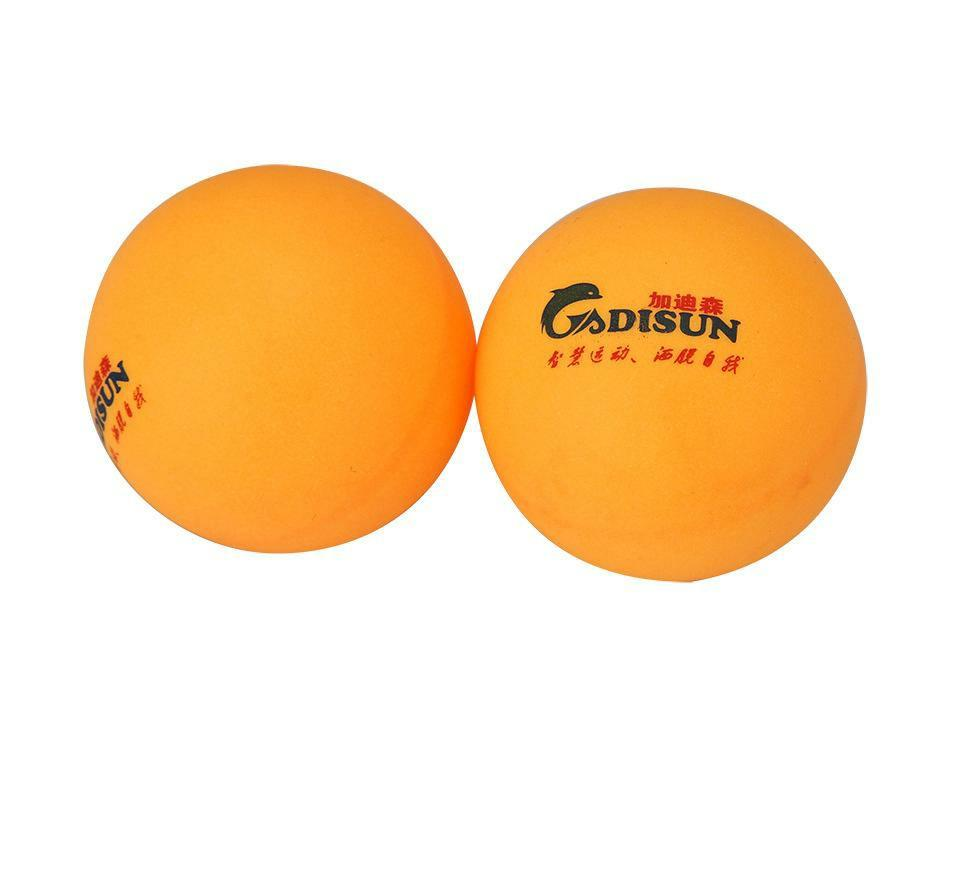ball: (468, 179, 874, 589), (75, 157, 482, 559)
